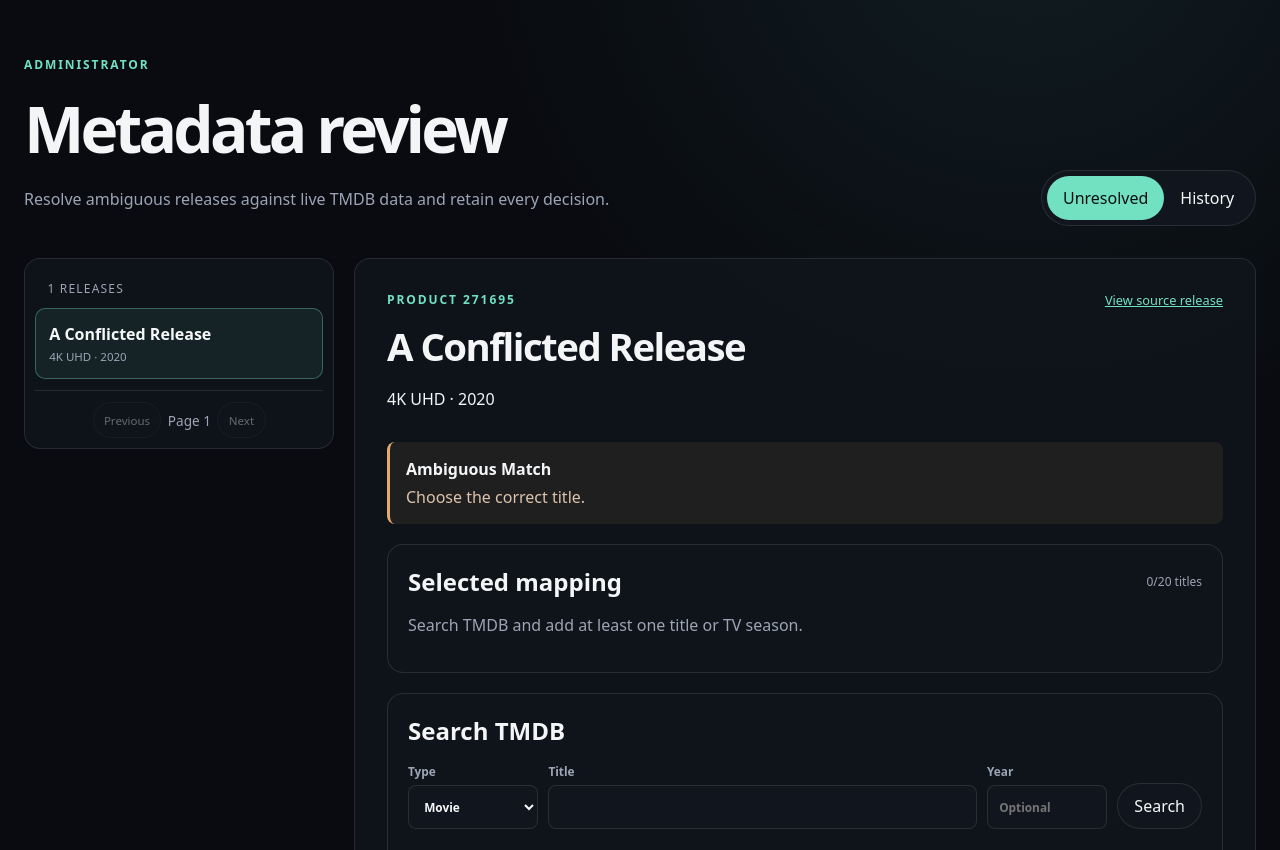
Test: MetadataReviewPage › searches TMDB, confirms a selection, and saves the conflict
Expected: the heading "A Conflicted Release" is shown, [387,320,745,372]
Expected: the form is shown, [408,763,1202,829]
Type "Matched Movie" into the field labelled "Title" at (762, 807), box [548,785,977,829]
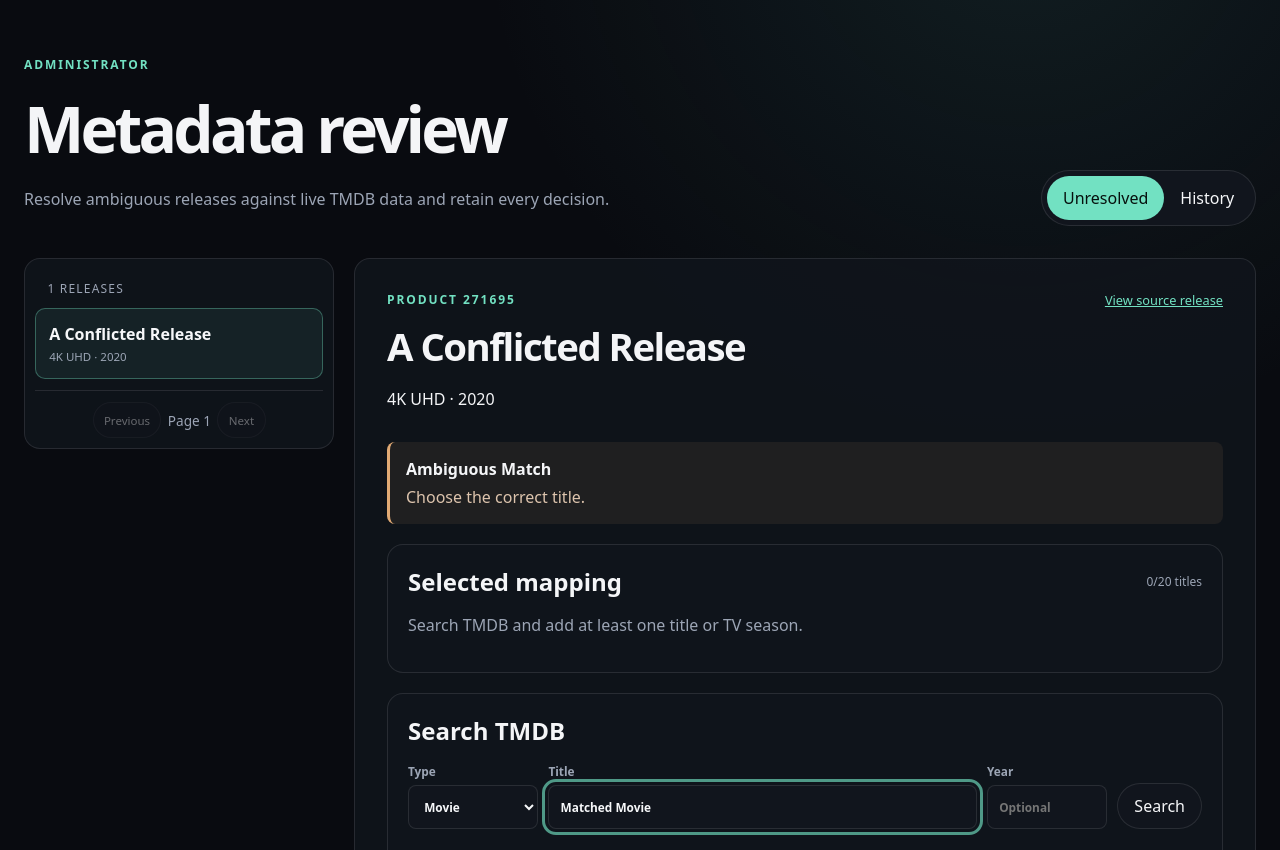
Click the button "Search" at (1160, 806), box [1117,783,1202,829]
(page scrolled)
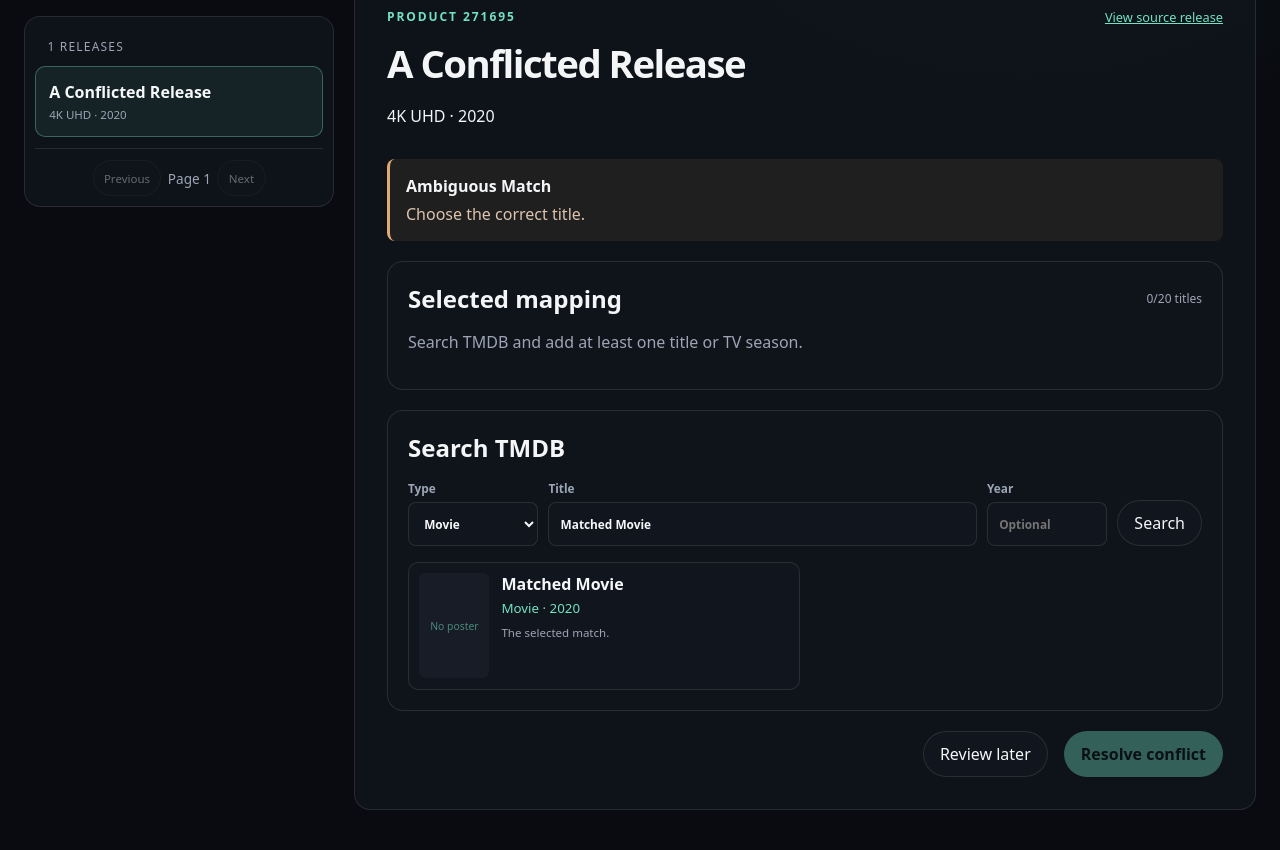
Click the button "No poster Matched Movie Movie · 2020 The selected match." at (604, 626), box [408,562,800,690]
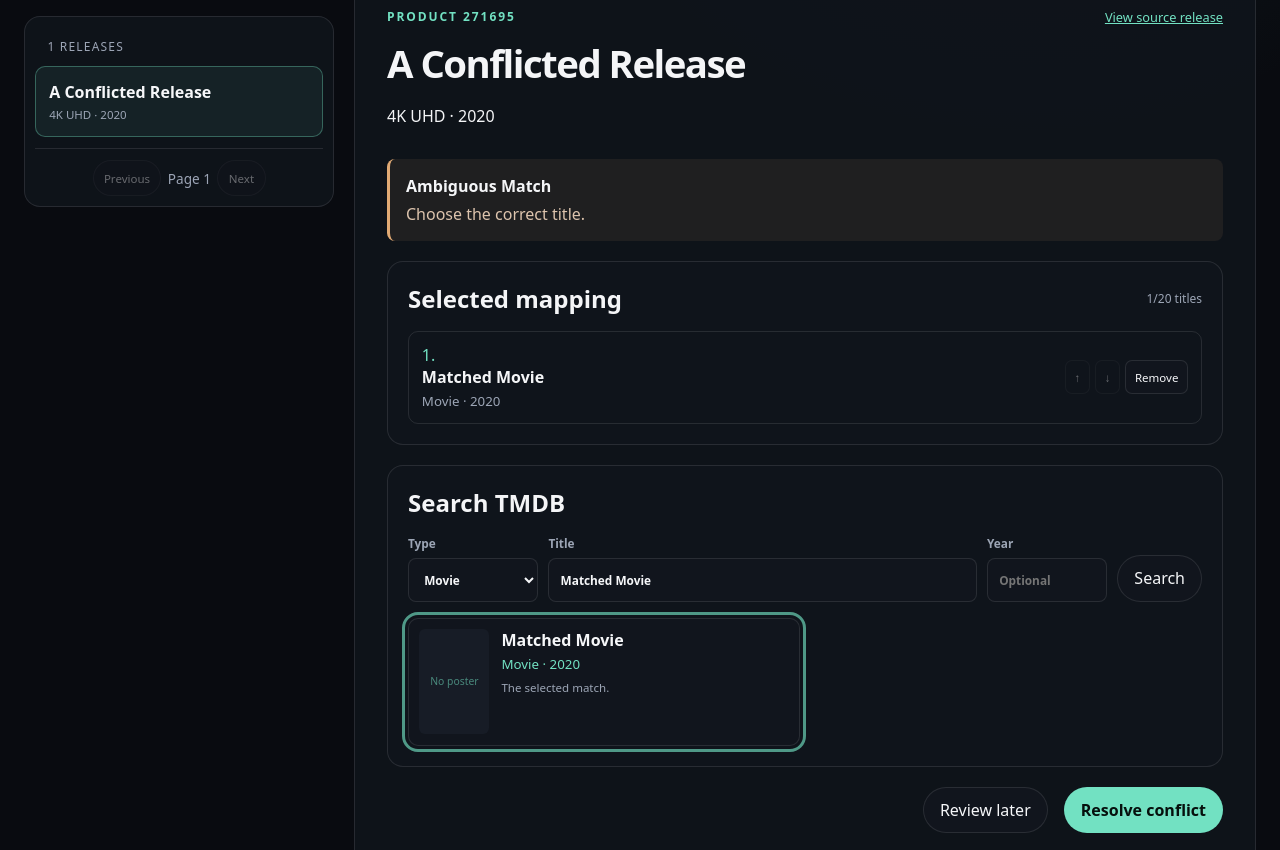
Result: the text "1/20 titles" is shown at [1146,290,1202,307]
Click the button "Resolve conflict" at (1143, 810), box [1064,787,1223,833]
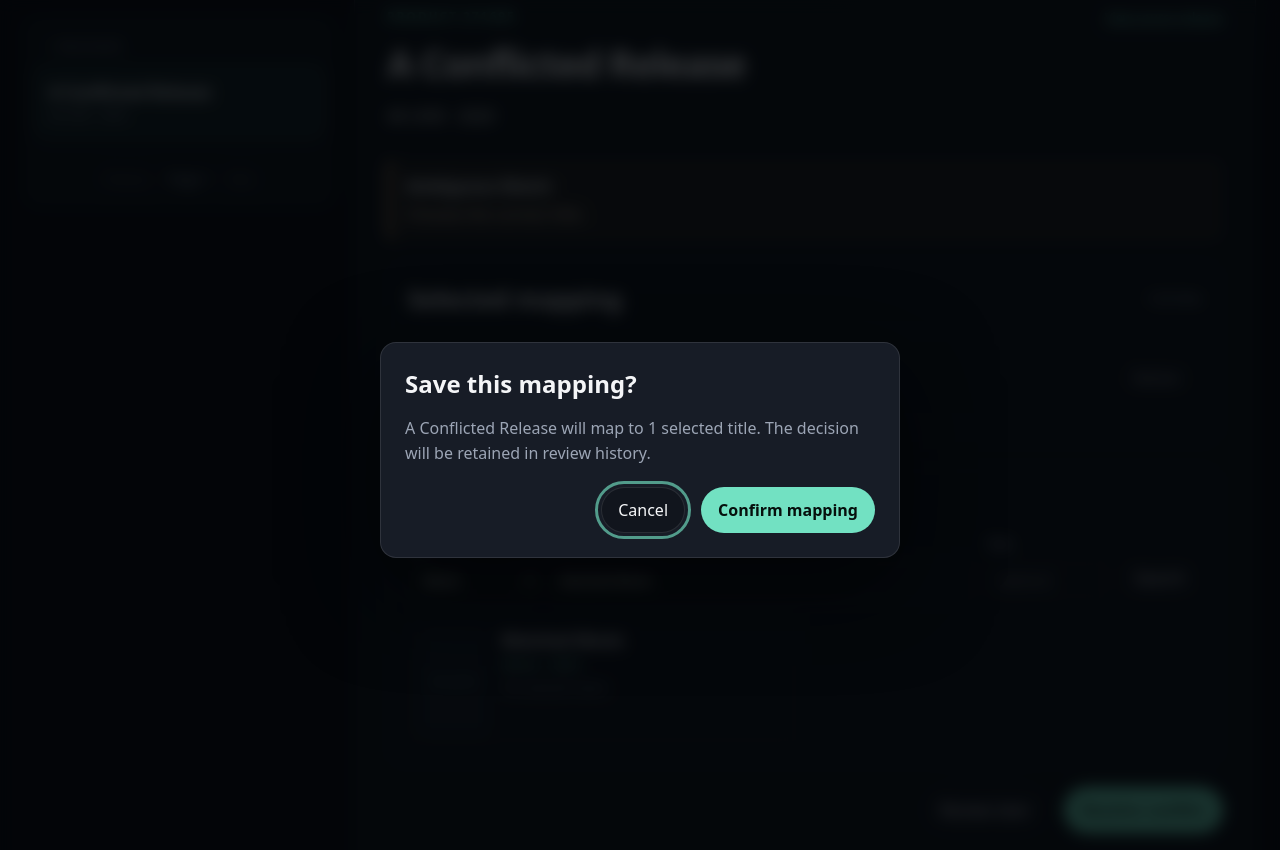
Click the button "Confirm mapping" at (788, 510), box [701,487,875,533]
(page scrolled)
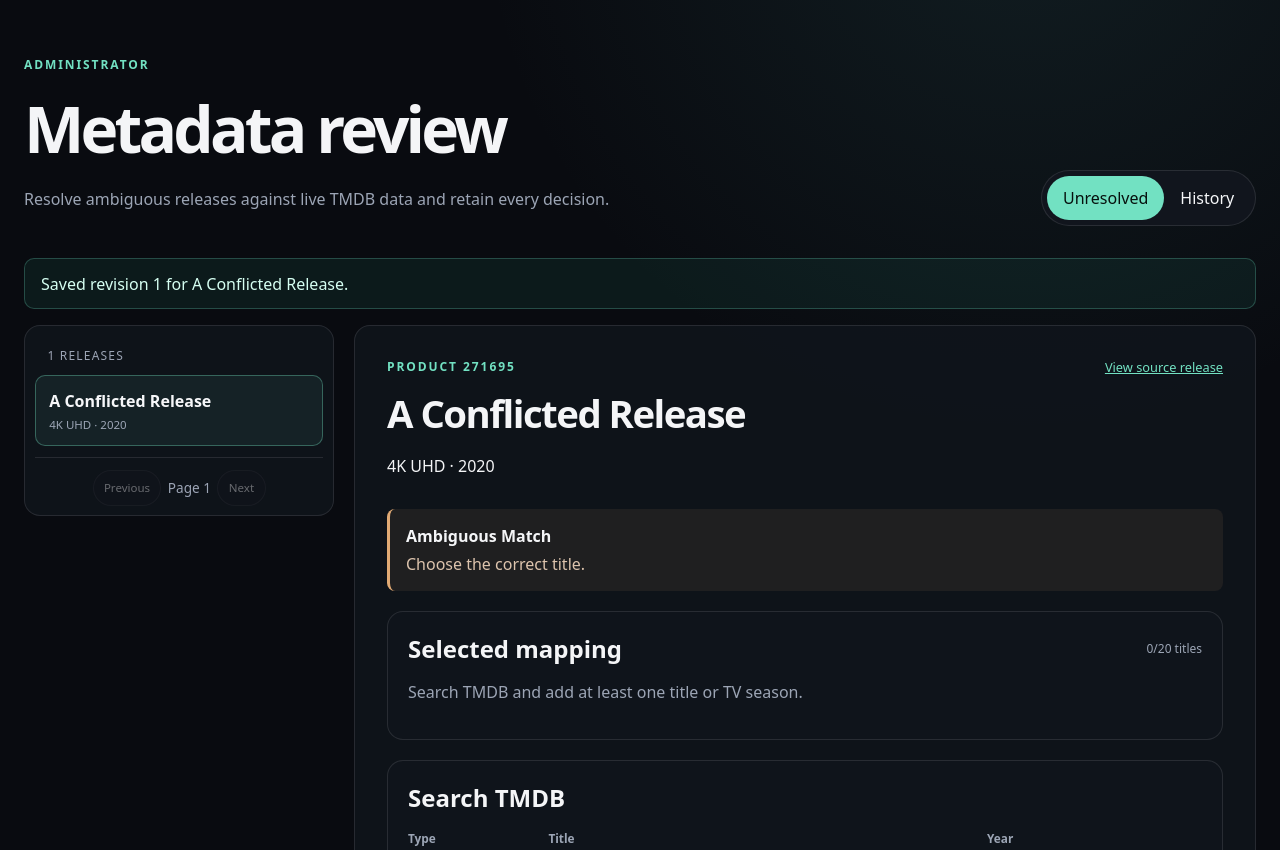
Result: the text "Saved revision 1 for A Conflicted Release." is shown at [24,258,1256,309]
